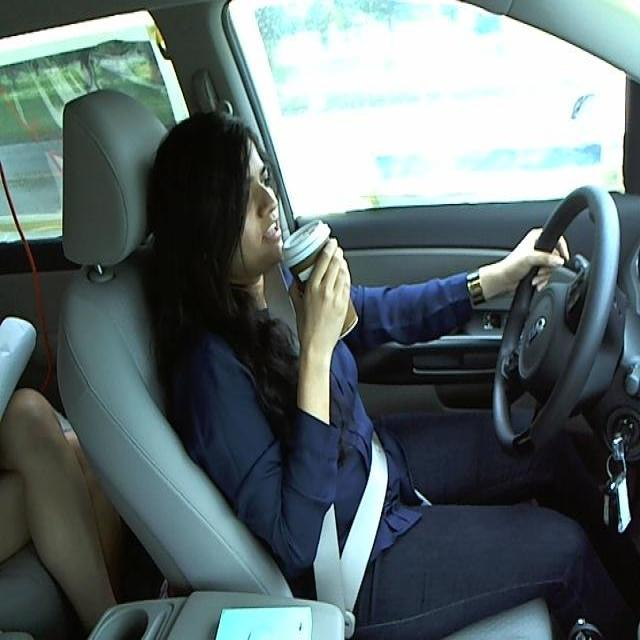Seatbelt: (289, 213, 360, 336)
